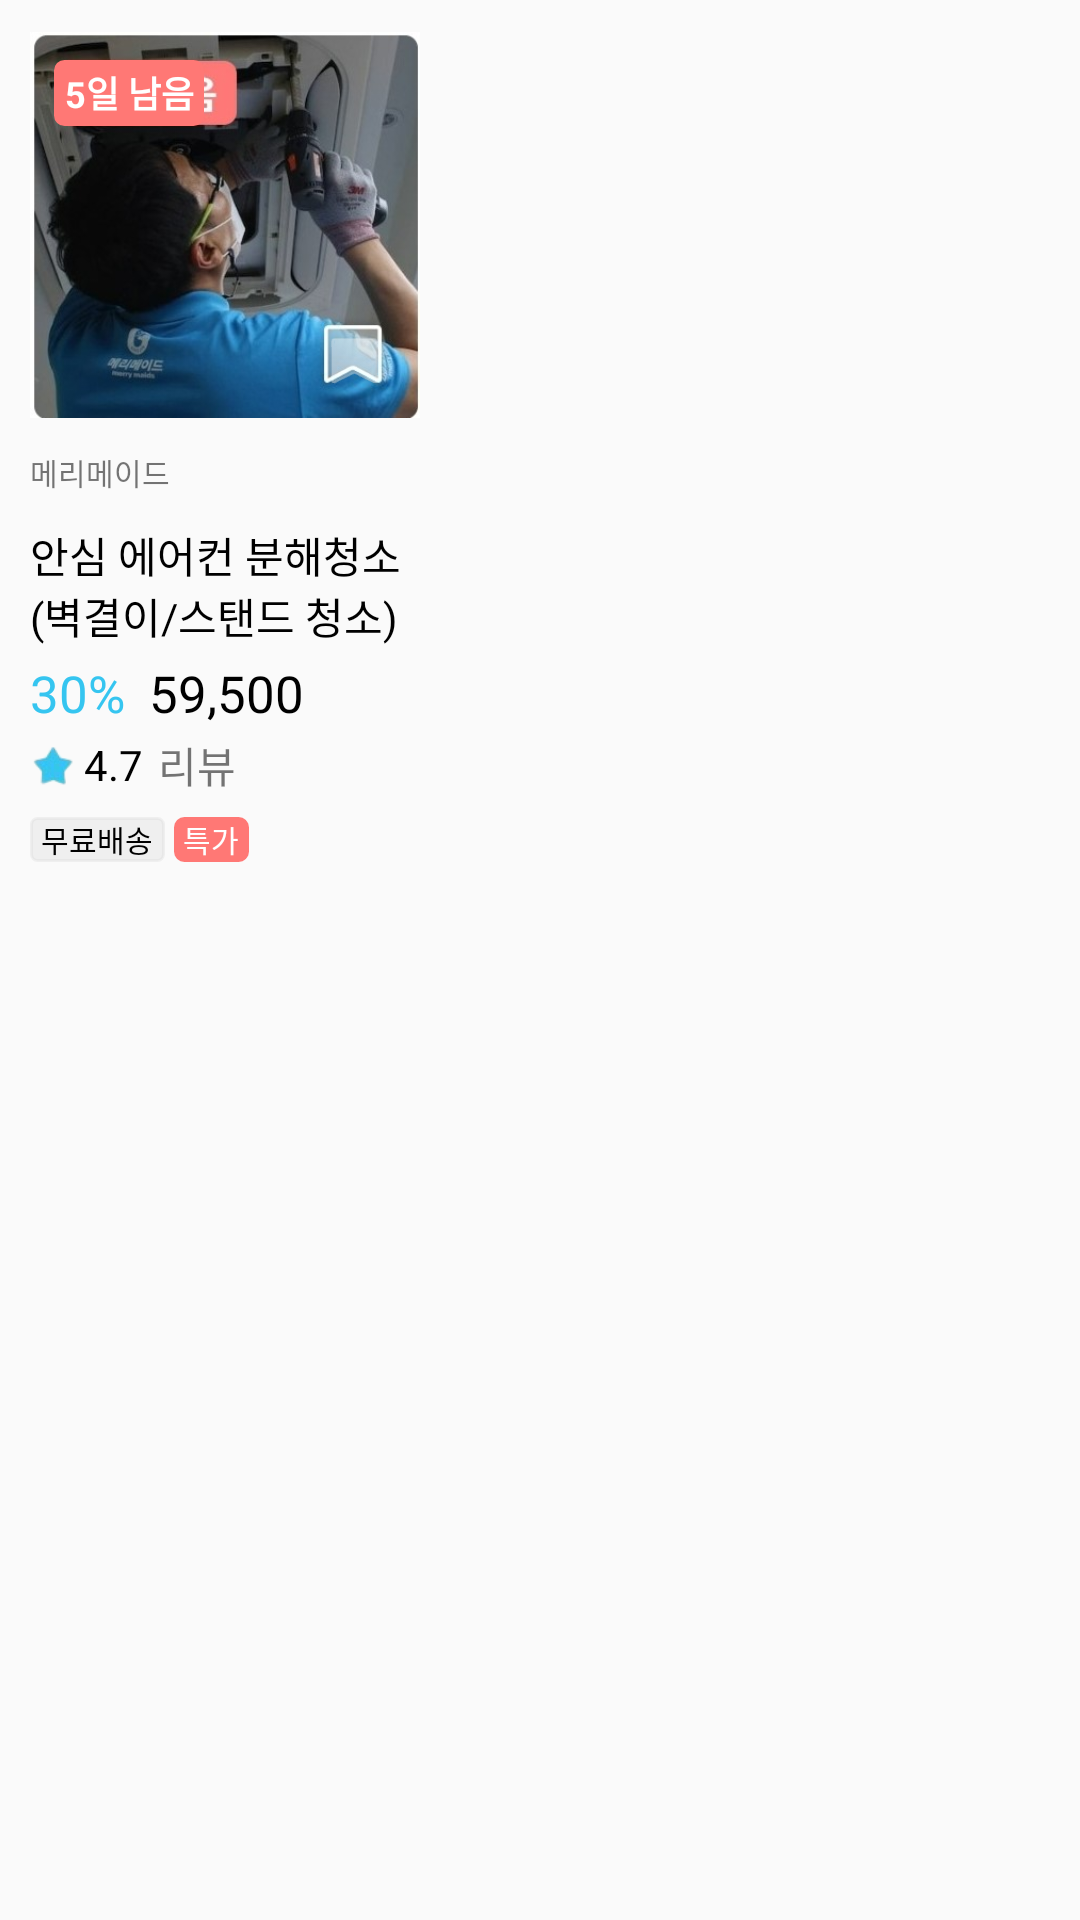

Locate icon controls on the screen. Image size 1080px×1920px, boxes as (x1, y1, x2, y2).
review start: (34, 747, 73, 785)
